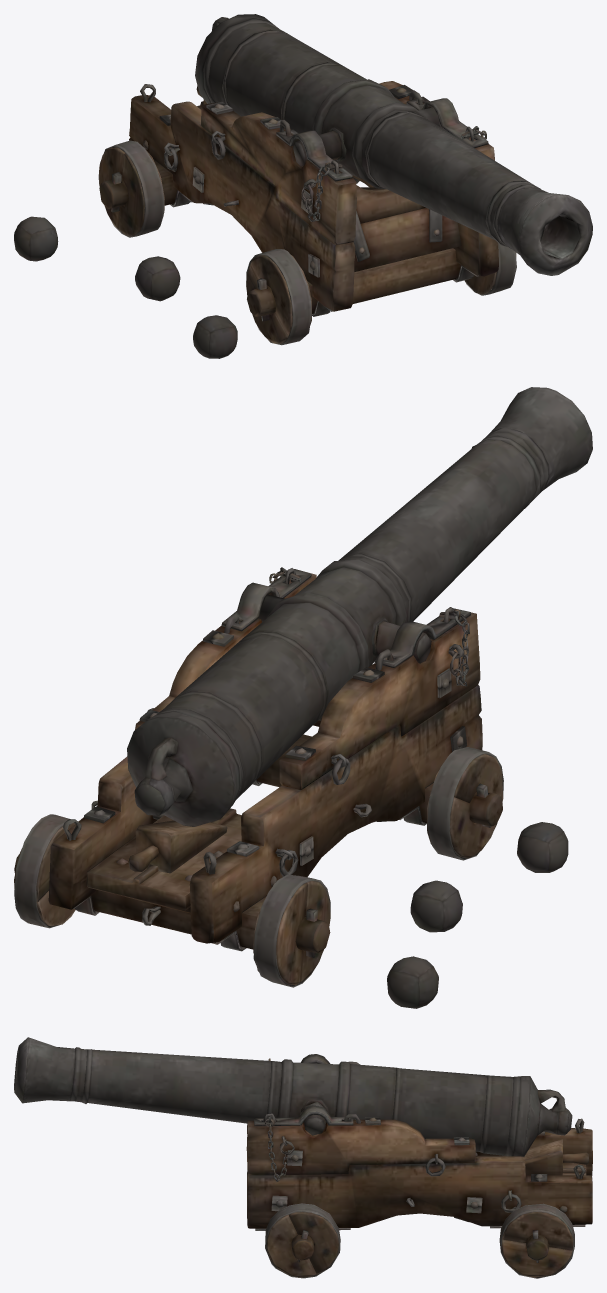
The model's file is cannon_01.glb.
3 renders of one model, top to bottom at view 1: azimuth 30°, elevation 25°; view 2: azimuth 150°, elevation 25°; view 3: azimuth 270°, elevation 25°, orthographic. The views are drawn at different scales.
Visible parts, largest first — view 1: cannon_01_frame, cannon_01_barrel; view 2: cannon_01_frame, cannon_01_barrel; view 3: cannon_01_frame, cannon_01_barrel.
Boxes of the visible parts, left/top/right/bottom form: cannon_01_frame: left=14, top=81, right=516, bottom=358; cannon_01_barrel: left=195, top=14, right=592, bottom=275; cannon_01_frame: left=14, top=567, right=568, bottom=1008; cannon_01_barrel: left=127, top=387, right=592, bottom=826; cannon_01_frame: left=246, top=1054, right=592, bottom=1278; cannon_01_barrel: left=14, top=1037, right=572, bottom=1156.
Size of the model in its own units: 1.27 by 0.8588 by 2.3.
Materials: 1 (1 with a texture image).
